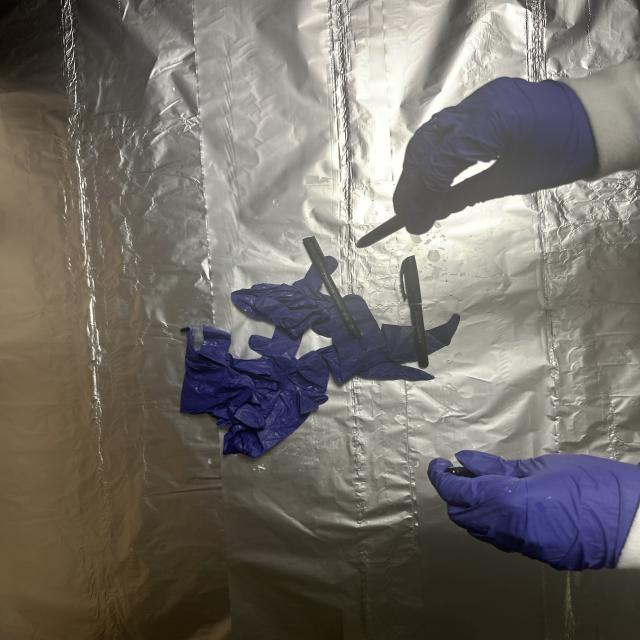gloves_contaminated: (393, 78, 597, 233), (428, 451, 640, 570)
